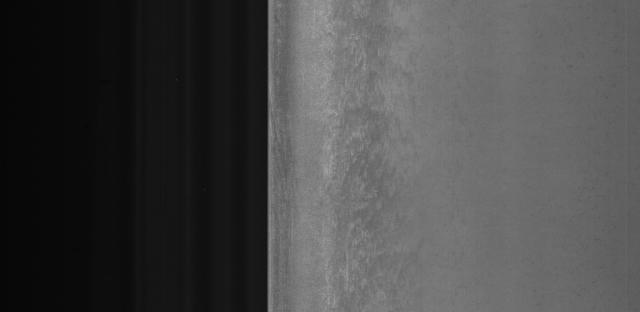silk_spot: (316, 26, 425, 290)
